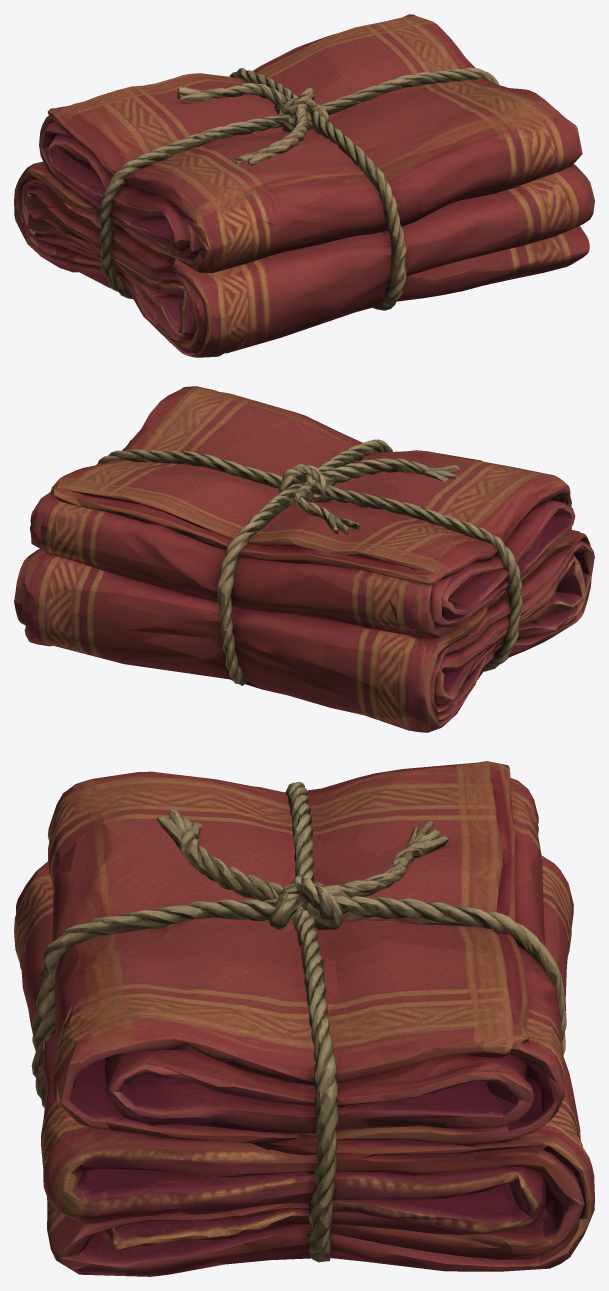
The model's file is prop-silk.glb.
3 views of the same model, one above another, from view 1: azimuth 30°, elevation 25°; view 2: azimuth 150°, elevation 25°; view 3: azimuth 270°, elevation 25° (orthographic). The views are drawn at different scales.
Parts seen in each view (by area): view 1: mesh_node; view 2: mesh_node; view 3: mesh_node.
Boxes of the visible parts, <box> form: mesh_node: <box>14,14,594,357</box>; mesh_node: <box>14,386,594,732</box>; mesh_node: <box>14,761,594,1276</box>.
Size of the model in its own units: 1.9 by 0.7037 by 1.47.
Materials: 1 (1 with a texture image).
